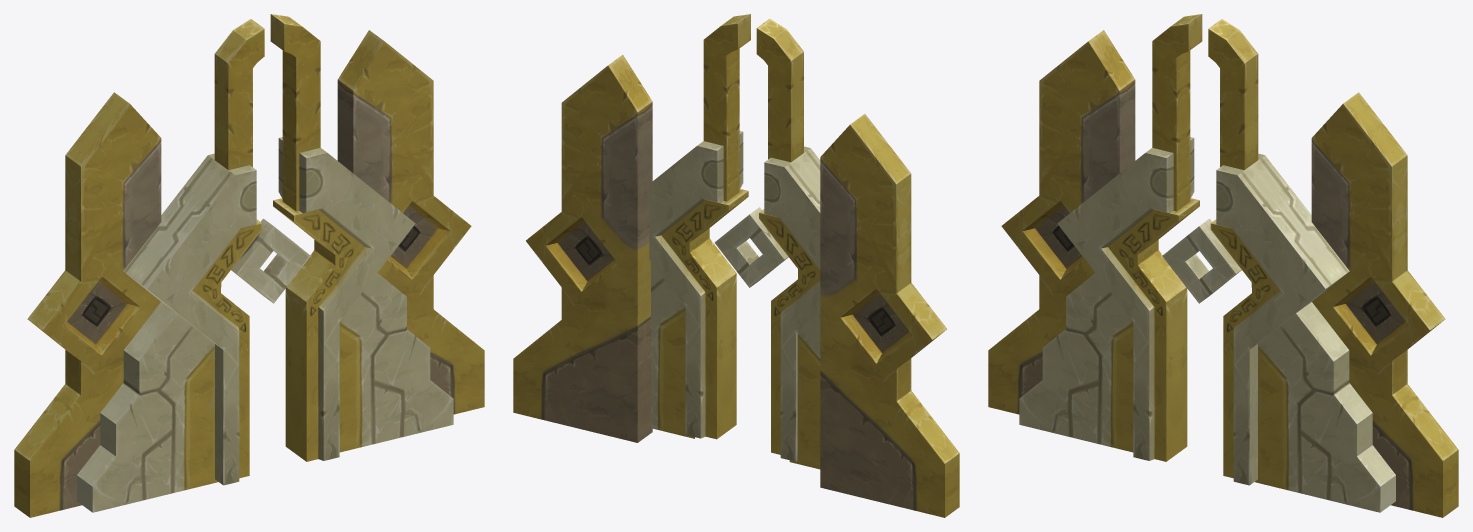
Rendered from door_01.FBX.
3 renders of one model, left to right at view 1: azimuth 30°, elevation 25°; view 2: azimuth 150°, elevation 25°; view 3: azimuth 330°, elevation 25°, orthographic. The views are drawn at different scales.
Parts seen in each view (by area): view 1: polySurface952; view 2: polySurface952; view 3: polySurface952.
Boxes of the visible parts, bbox=[...] form: polySurface952: bbox=[14, 14, 484, 517]; polySurface952: bbox=[513, 14, 959, 517]; polySurface952: bbox=[988, 14, 1458, 517].
Bounding box in the file's own units: 428 × 404 × 65.15.
